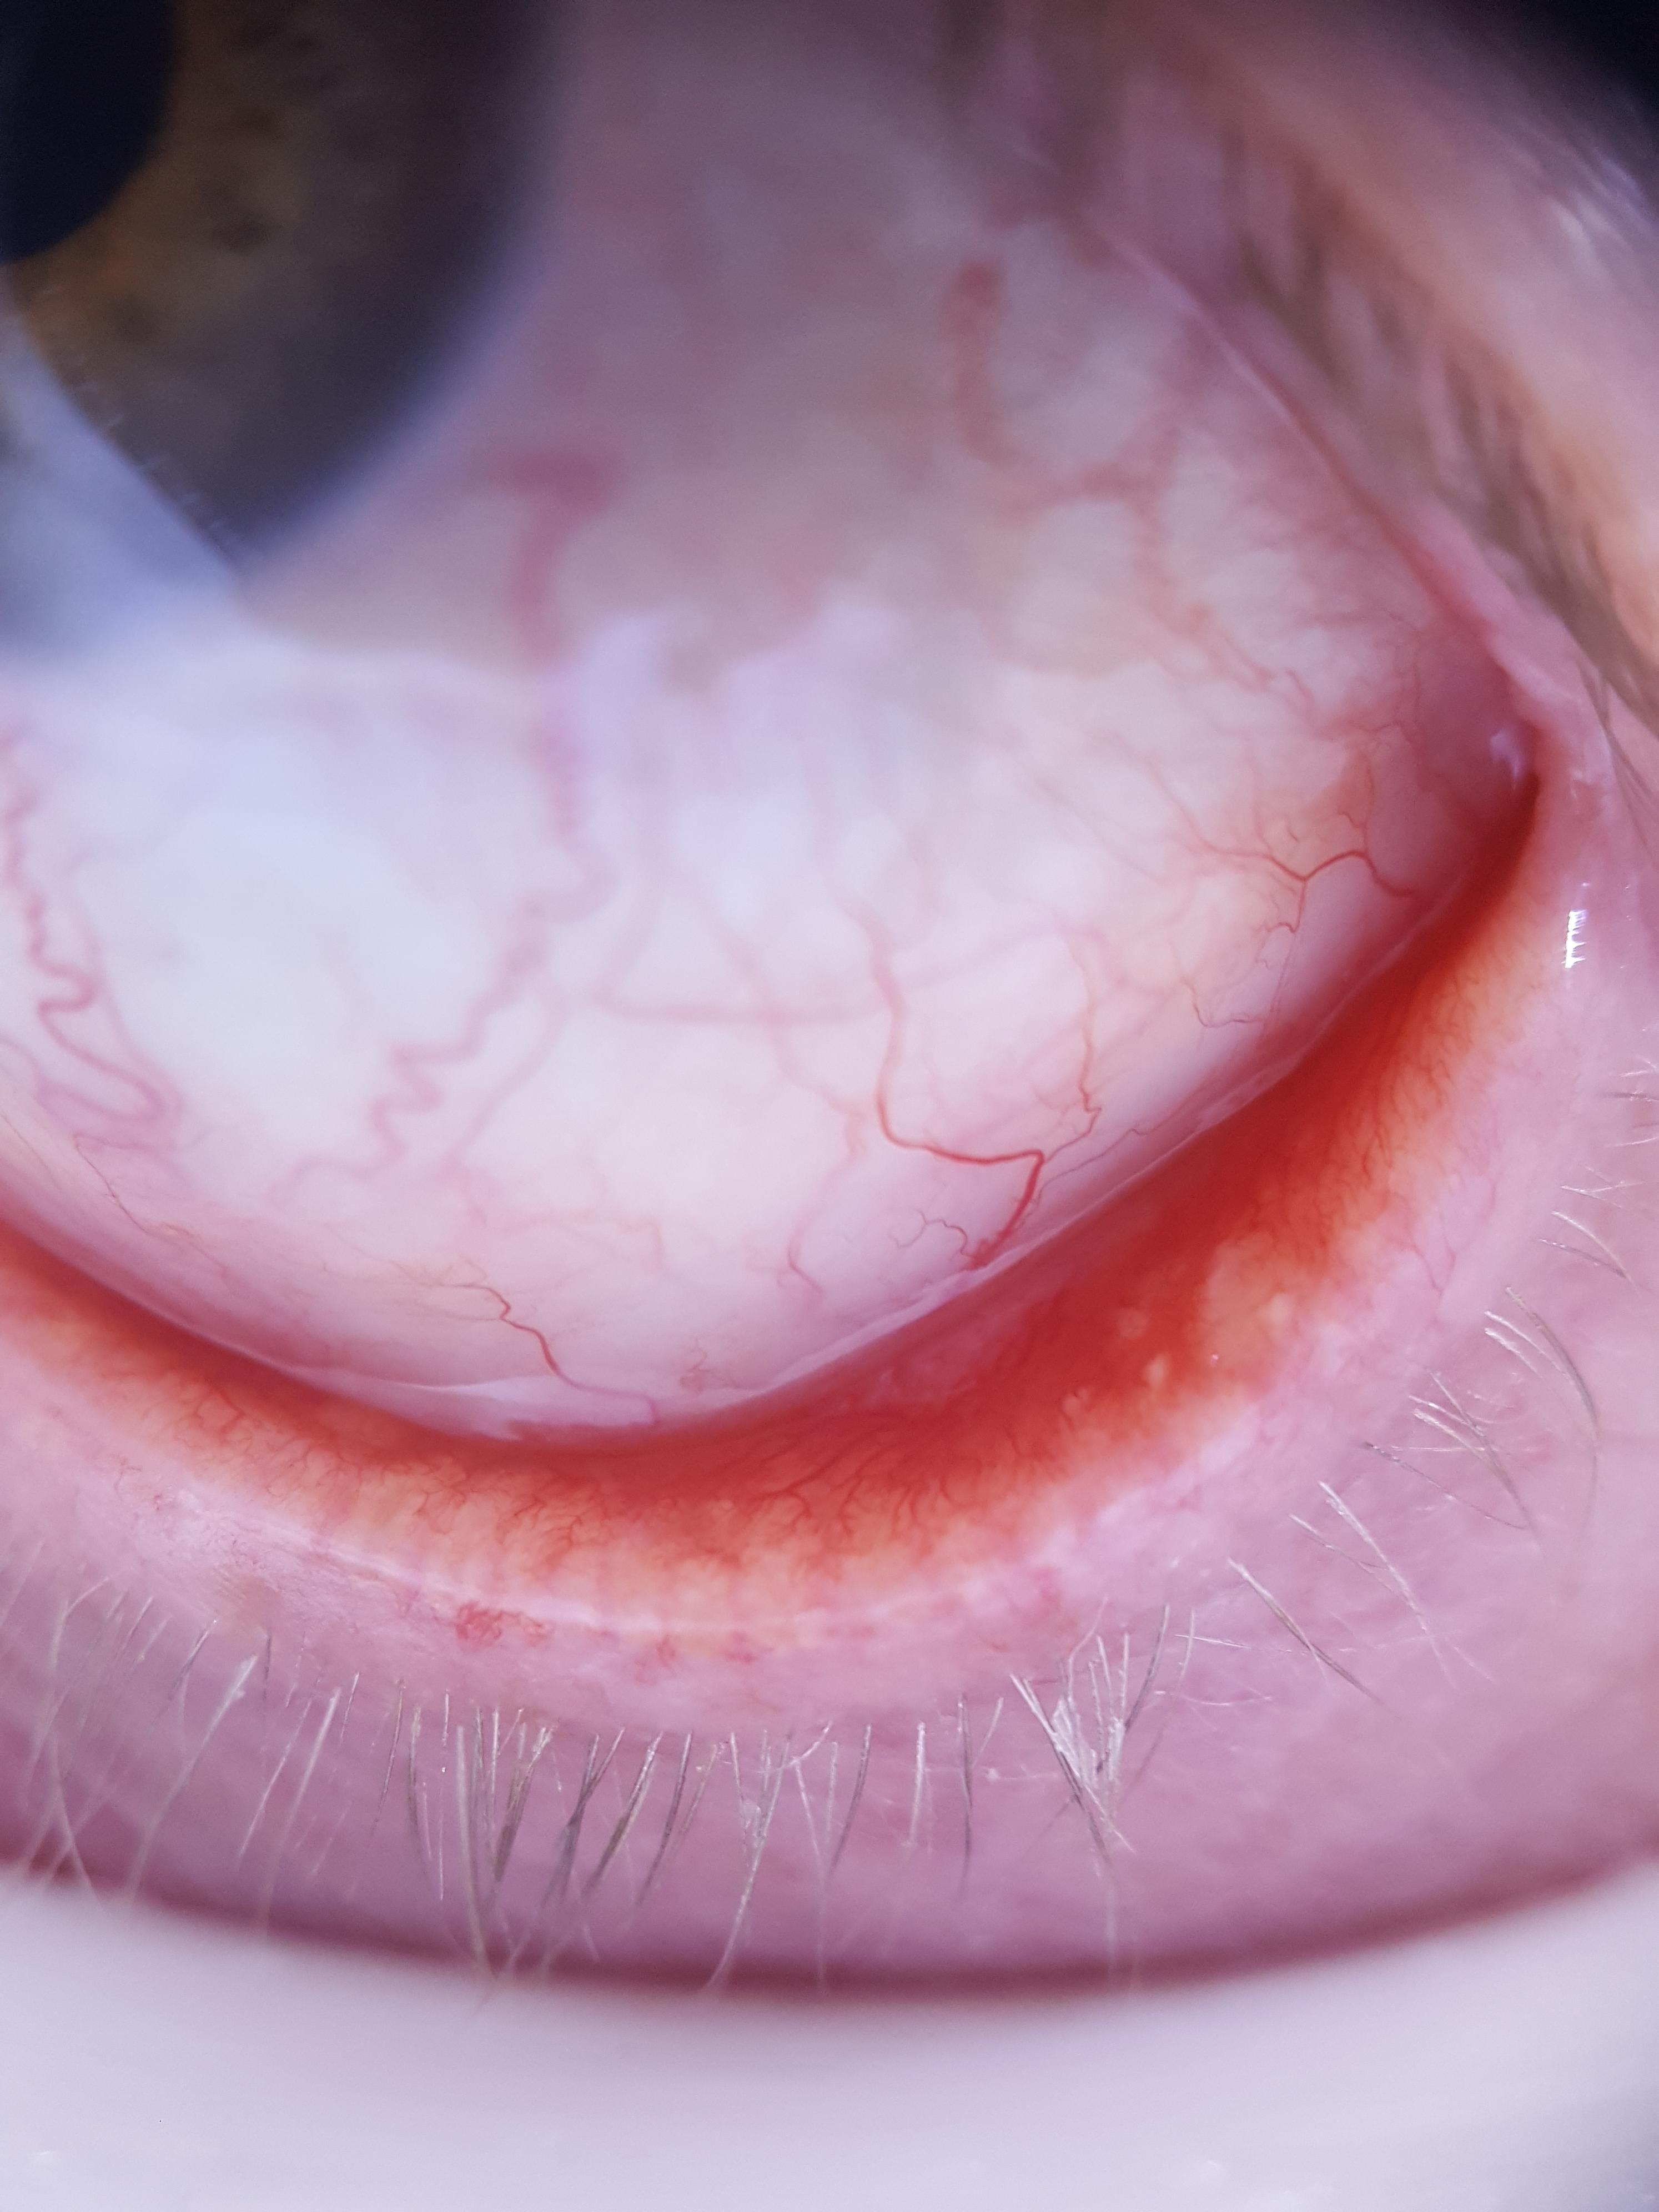palpebral: (0, 768, 1546, 1540)
